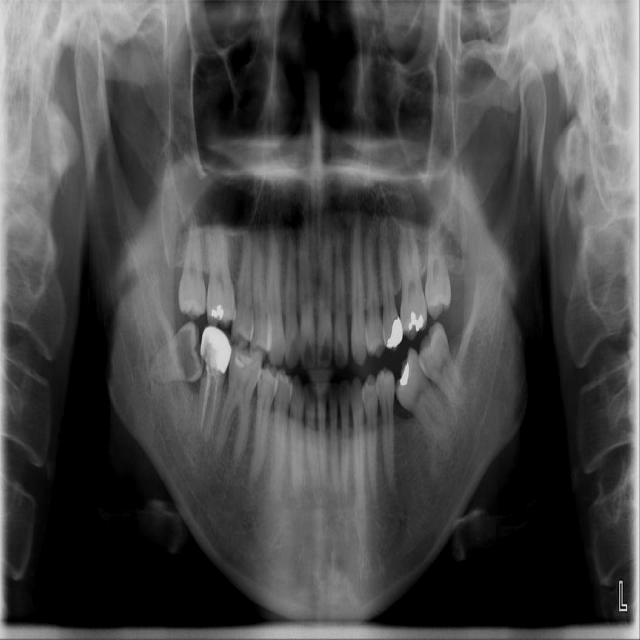Caries: (176, 330, 198, 379)
Crown: (197, 327, 233, 371)
Filling: (233, 344, 259, 371), (397, 352, 414, 393), (385, 316, 403, 348), (402, 311, 427, 334), (212, 303, 224, 319)
Root Canal Treatment: (198, 373, 211, 434), (210, 372, 220, 423)
impacted tooth: (145, 321, 202, 379)
